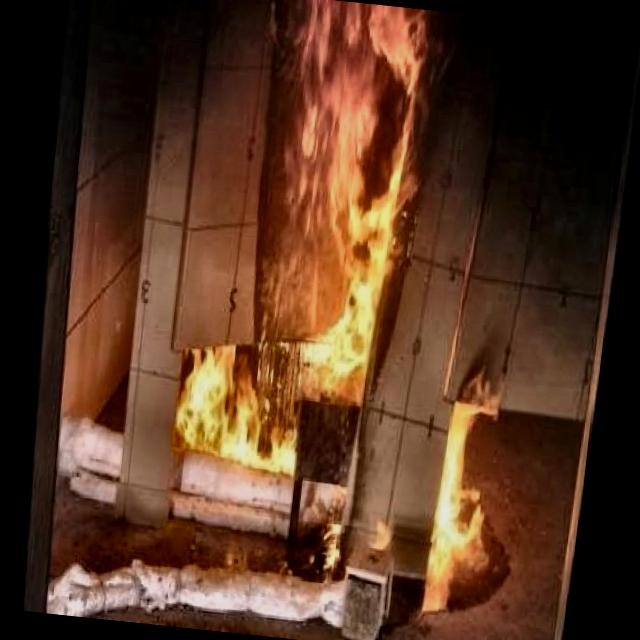fire: (138, 0, 448, 531), (372, 329, 545, 634)
